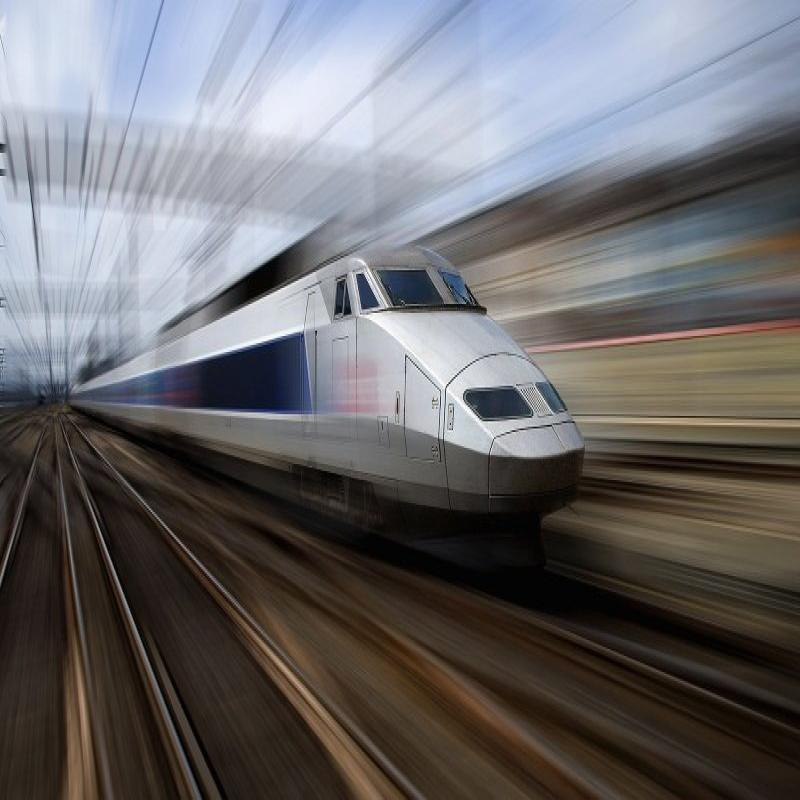train: (306, 227, 589, 582)
